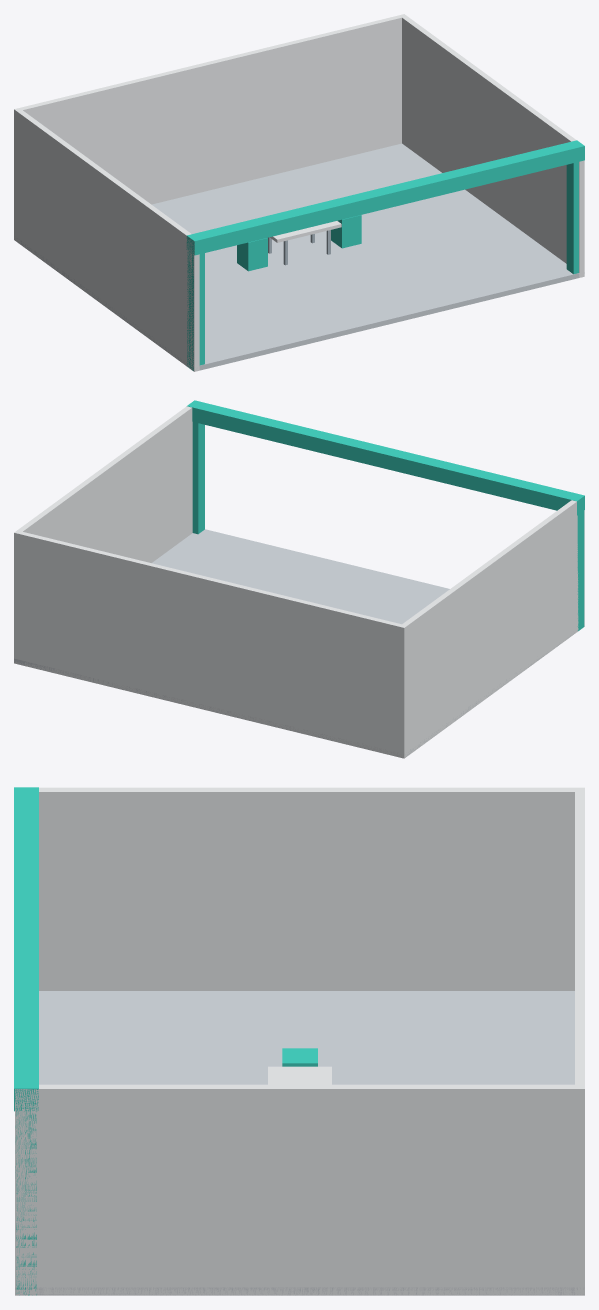
The picture shows the model from 3 angles, top to bottom: view 1: azimuth 30°, elevation 25°; view 2: azimuth 150°, elevation 25°; view 3: azimuth 270°, elevation 25°; orthographic projection. The views are drawn at different scales.
Visible parts, largest first — view 1: Exhibition Booth Concept; view 2: Exhibition Booth Concept; view 3: Exhibition Booth Concept.
Boxes of the visible parts, left/top/right/bottom form: Exhibition Booth Concept: left=14, top=14, right=584, bottom=371; Exhibition Booth Concept: left=14, top=400, right=584, bottom=758; Exhibition Booth Concept: left=14, top=787, right=584, bottom=1295.
Size of the model in its own units: 10 by 3.2 by 8.01.
